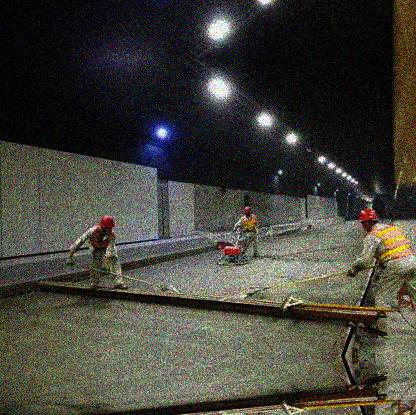helmet: (357, 207, 380, 231), (99, 216, 114, 232), (244, 206, 252, 215)
